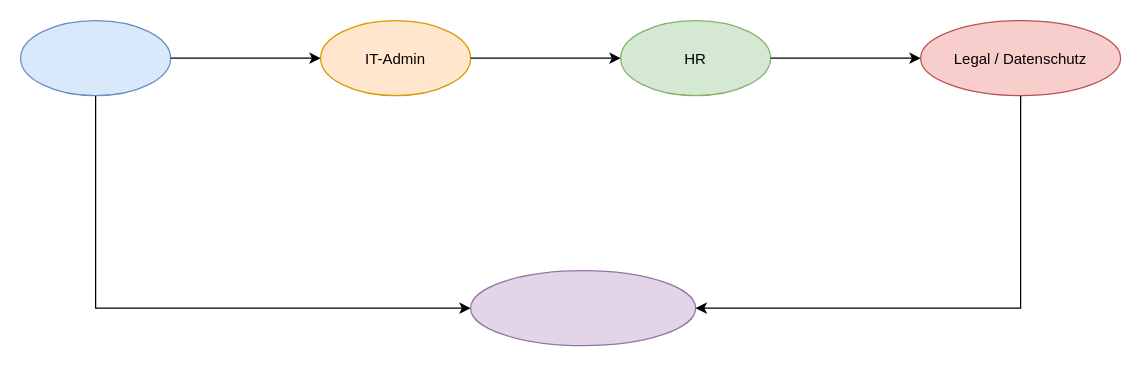
Image size: 1141x366. Some labels were removed from this diagram. The box of each missing label's shape, as (x1, y1, x2, y2) in pixels:
CISO / Management: (469, 269, 696, 346)
SOC Analyst: (19, 19, 171, 96)
